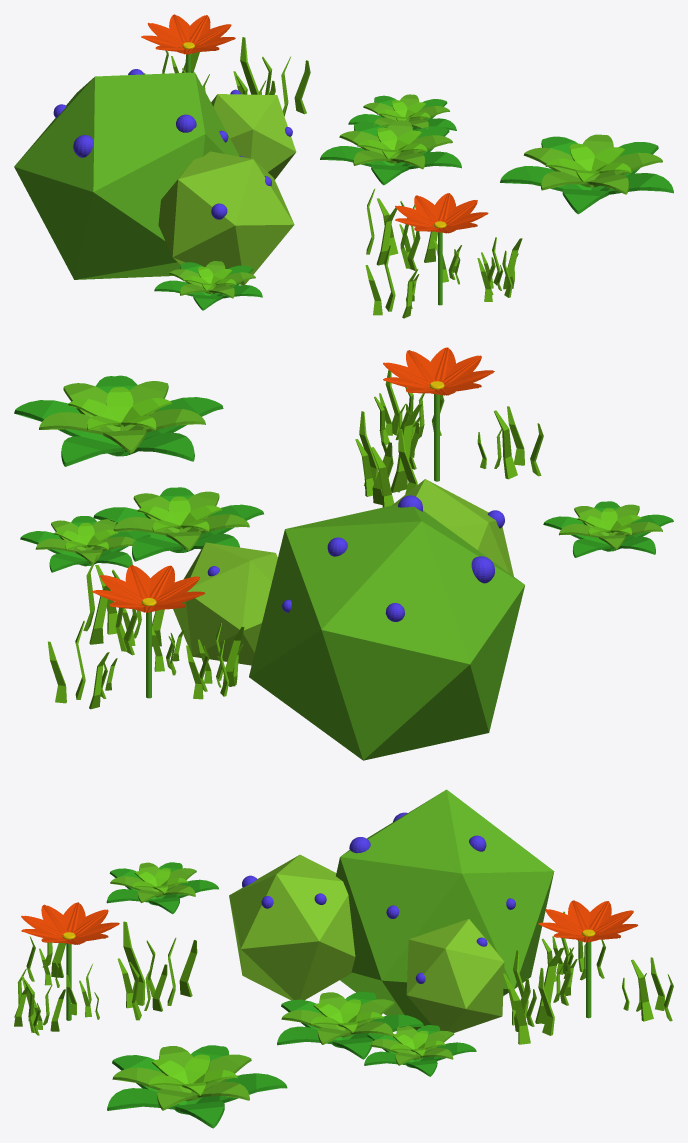
The model's file is Flowers.fbx.
3 renders of one model, top to bottom at view 1: azimuth 30°, elevation 25°; view 2: azimuth 150°, elevation 25°; view 3: azimuth 270°, elevation 25°, orthographic. The views are drawn at different scales.
Parts seen in each view (by area): view 1: Plane.047; view 2: Plane.047; view 3: Plane.047.
Boxes of the visible parts, left/top/right/bottom form: Plane.047: left=14, top=14, right=673, bottom=318; Plane.047: left=14, top=347, right=673, bottom=760; Plane.047: left=14, top=789, right=673, bottom=1128.
Bounding box in the file's own units: 168 × 64.45 × 175.
